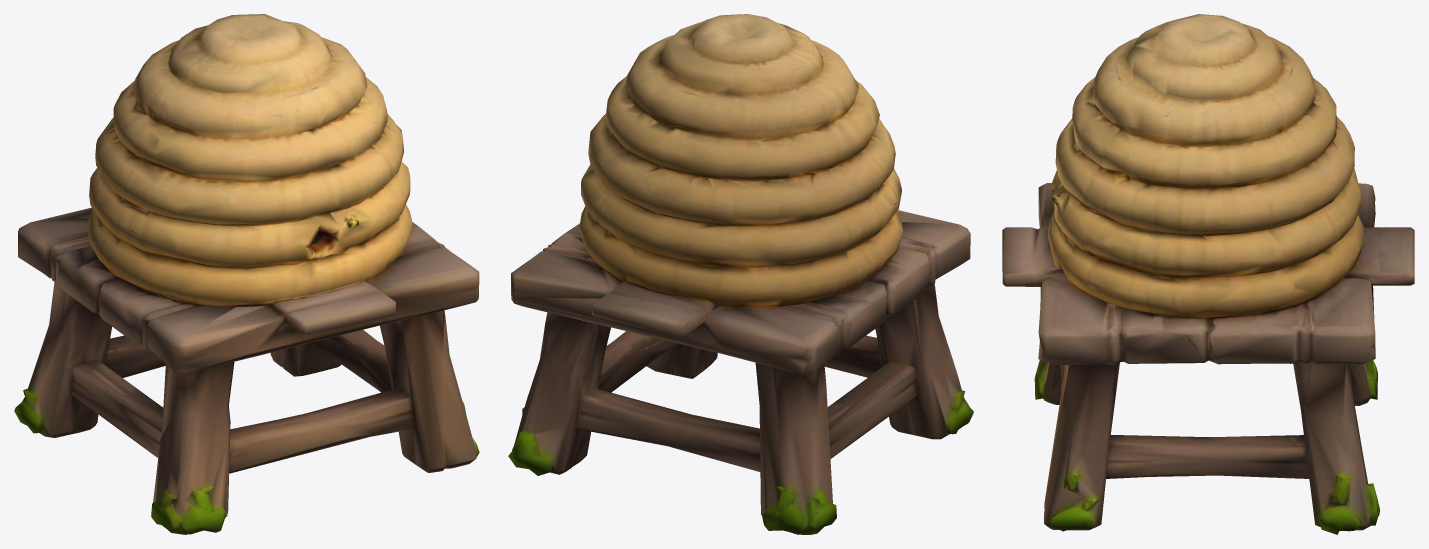
Rendered from beehive-skep.glb.
3 views of the same model, side by side, from view 1: azimuth 30°, elevation 25°; view 2: azimuth 150°, elevation 25°; view 3: azimuth 270°, elevation 25° (orthographic). The views are drawn at different scales.
Parts seen in each view (by area): view 1: node_0; view 2: node_0; view 3: node_0.
Part boxes in pixels (<box>): node_0: <box>14,14,479,534</box>; node_0: <box>508,14,973,534</box>; node_0: <box>1002,14,1414,534</box>.
Size of the model in its own units: 0.6302 by 0.7996 by 0.6997.
Materials: 1 (1 with a texture image).
